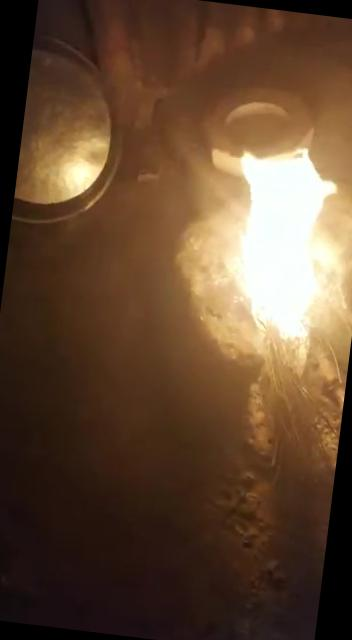Fire: (215, 138, 352, 346)
